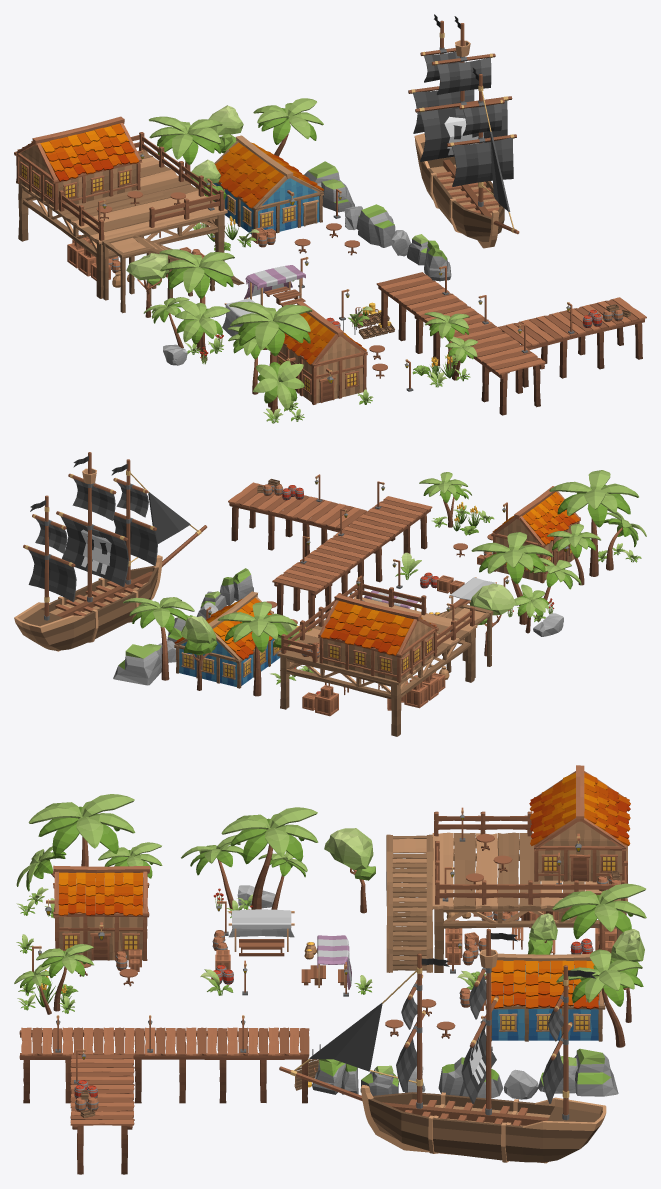
The model's file is pirate_seaport.glb.
The picture shows the model from 3 angles, top to bottom: view 1: azimuth 30°, elevation 25°; view 2: azimuth 150°, elevation 25°; view 3: azimuth 270°, elevation 25°; orthographic projection. The views are drawn at different scales.
Parts seen in each view (by area): view 1: pirate ship_237, wooden pier 7_129, wooden platform_78, pirate house 3_121, pirate house_194, pirate house 2_19, palm tree large (1)_250, palm tree bent (1)_198, palm tree large (3)_134, palm tree bent (3)_13, palm tree tilted_11, food tent 3_107 (+11 smaller); view 2: pirate ship_237, wooden pier 7_129, pirate house 3_121, wooden platform_78, pirate house_194, pirate house 2_19, palm tree large (1)_250, palm tree large (3)_134, palm tree bent (1)_198, palm tree bent (3)_13, green stone 3_131, tree 9 (1)_123 (+12 smaller); view 3: pirate ship_237, wooden platform_78, wooden pier 7_129, pirate house 3_121, pirate house 2_19, pirate house_194, palm tree large (1)_250, palm tree bent (1)_198, palm tree large (3)_134, palm tree bent (3)_13, food tent_205, tree 10_55 (+18 smaller).
Boxes of the visible parts, x1=… form: pirate ship_237: x1=408, y1=14, x2=519, y2=248; wooden pier 7_129: x1=376, y1=272, x2=646, y2=415; wooden platform_78: x1=16, y1=149, x2=244, y2=313; pirate house 3_121: x1=14, y1=116, x2=142, y2=210; pirate house_194: x1=212, y1=135, x2=323, y2=234; pirate house 2_19: x1=276, y1=301, x2=367, y2=404; palm tree large (1)_250: x1=229, y1=301, x2=312, y2=407; palm tree bent (1)_198: x1=159, y1=249, x2=234, y2=351; palm tree large (3)_134: x1=149, y1=116, x2=222, y2=184; palm tree bent (3)_13: x1=253, y1=98, x2=323, y2=155; palm tree tilted_11: x1=253, y1=360, x2=304, y2=414; food tent 3_107: x1=244, y1=265, x2=305, y2=306; pirate ship_237: x1=14, y1=452, x2=207, y2=651; wooden pier 7_129: x1=228, y1=482, x2=432, y2=624; pirate house 3_121: x1=318, y1=594, x2=438, y2=683; wooden platform_78: x1=277, y1=596, x2=493, y2=736; pirate house_194: x1=174, y1=591, x2=280, y2=688; pirate house 2_19: x1=491, y1=486, x2=580, y2=583; palm tree large (1)_250: x1=549, y1=470, x2=638, y2=576; palm tree large (3)_134: x1=217, y1=601, x2=297, y2=696; palm tree bent (1)_198: x1=471, y1=532, x2=553, y2=624; palm tree bent (3)_13: x1=123, y1=597, x2=194, y2=680; green stone 3_131: x1=113, y1=644, x2=161, y2=685; tree 9 (1)_123: x1=181, y1=616, x2=217, y2=690; pirate ship_237: x1=279, y1=928, x2=606, y2=1163; wooden platform_78: x1=386, y1=832, x2=627, y2=972; wooden pier 7_129: x1=19, y1=1027, x2=309, y2=1174; pirate house 3_121: x1=529, y1=765, x2=630, y2=882; pirate house 2_19: x1=45, y1=865, x2=149, y2=960; pirate house_194: x1=478, y1=953, x2=605, y2=1041; palm tree large (1)_250: x1=28, y1=794, x2=135, y2=866; palm tree bent (1)_198: x1=221, y1=807, x2=318, y2=909; palm tree large (3)_134: x1=552, y1=883, x2=646, y2=949; palm tree bent (3)_13: x1=556, y1=949, x2=643, y2=1047; food tent_205: x1=228, y1=909, x2=294, y2=956; tree 10_55: x1=324, y1=828, x2=375, y2=913.
Bounding box in the file's own units: 18.4 × 8.39 × 19.44.
1 material, 1 textured.
